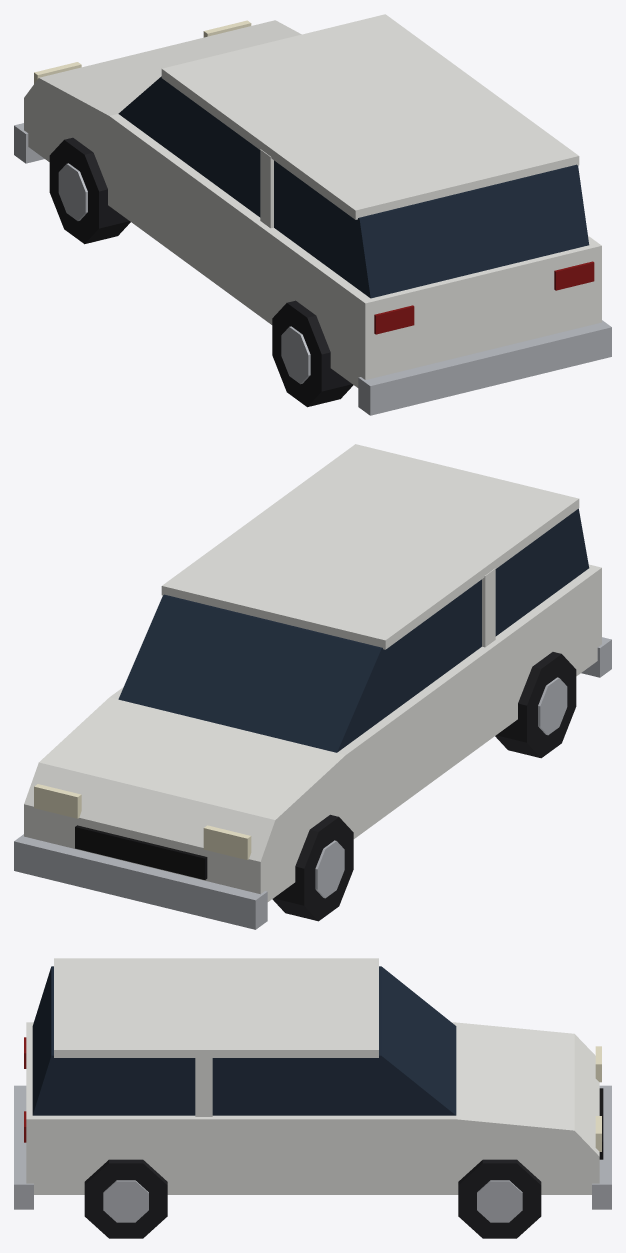
File: CarWagonWhite.obj
3 views of the same model, one above another, from view 1: azimuth 30°, elevation 25°; view 2: azimuth 150°, elevation 25°; view 3: azimuth 270°, elevation 25° (orthographic). The views are drawn at different scales.
Visible parts, largest first — view 1: CarWagonWhite; view 2: CarWagonWhite; view 3: CarWagonWhite.
Part boxes in pixels (box(x1,y1,x2,y2)): CarWagonWhite: box(14, 14, 611, 415); CarWagonWhite: box(14, 444, 611, 929); CarWagonWhite: box(14, 958, 611, 1238).
Bounding box in the file's own units: 2.01 × 1.61 × 4.8.
1 material, 1 textured.
